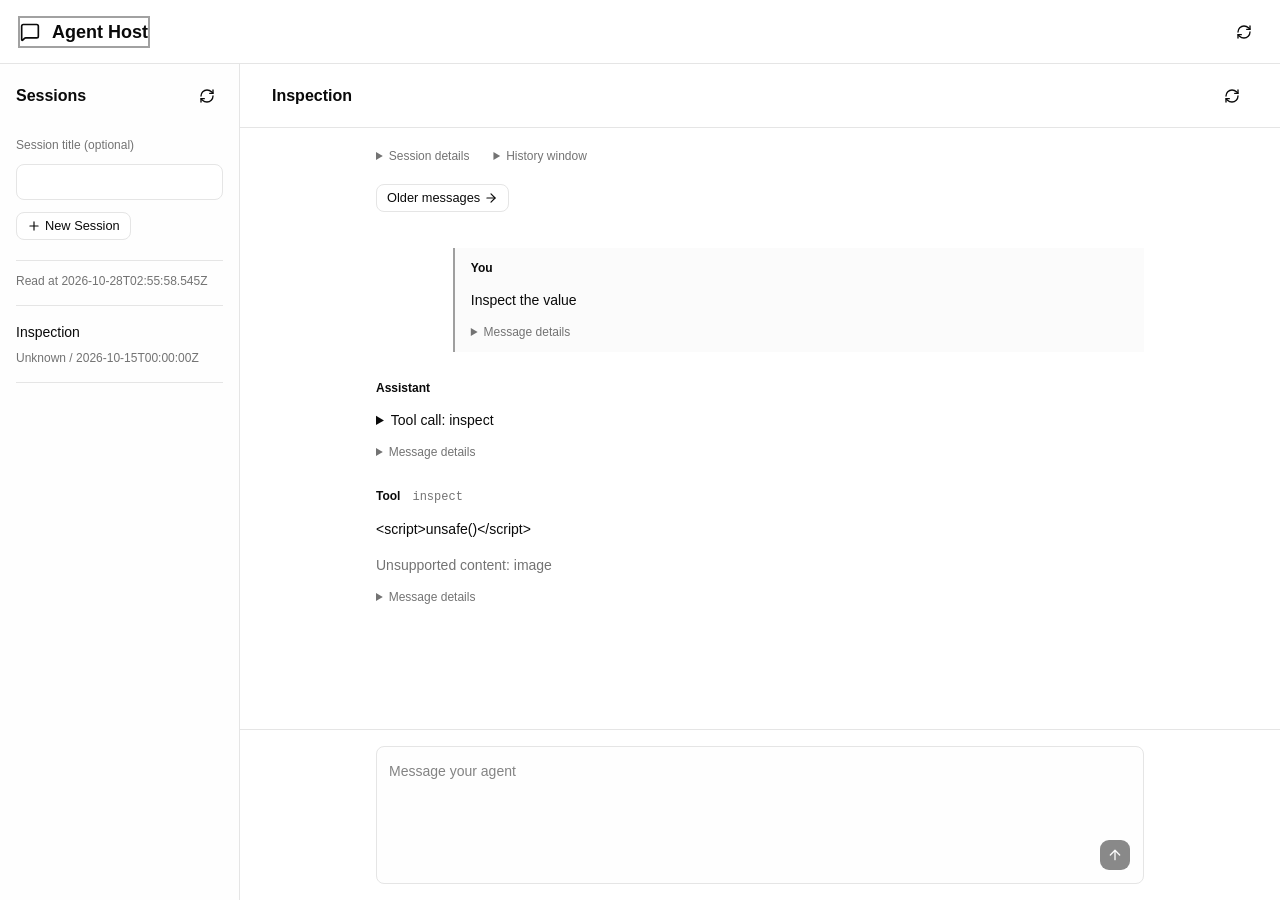
Test: Agent Host Session browsing › shows stop acceptance without cancelling the stream or enabling another Run
Type "New input" into the text box named "New input". click: (760, 795)
box: [389,759,1131,831]
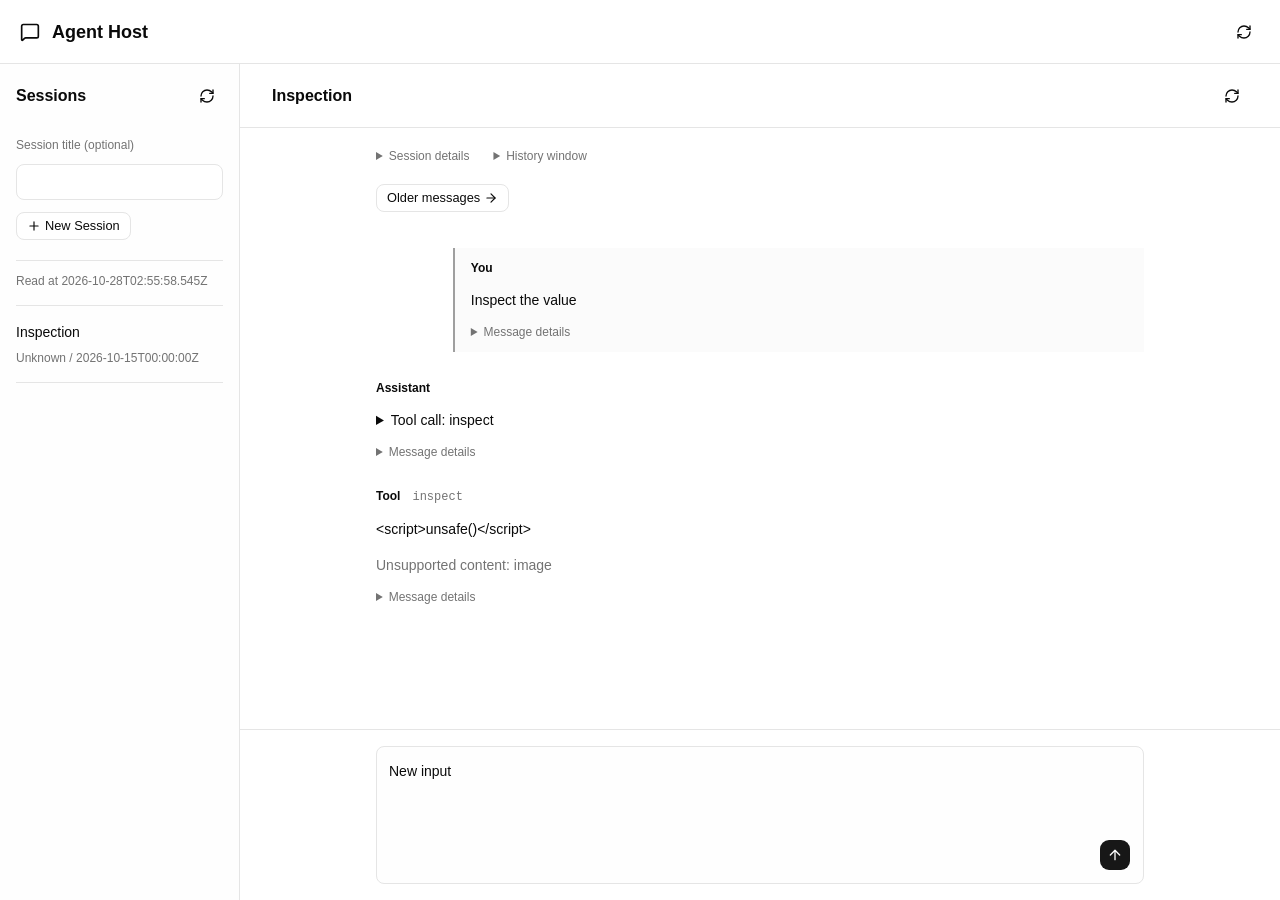
Click the button named "Send input". click: (1115, 855)
box: [1099,839,1131,871]
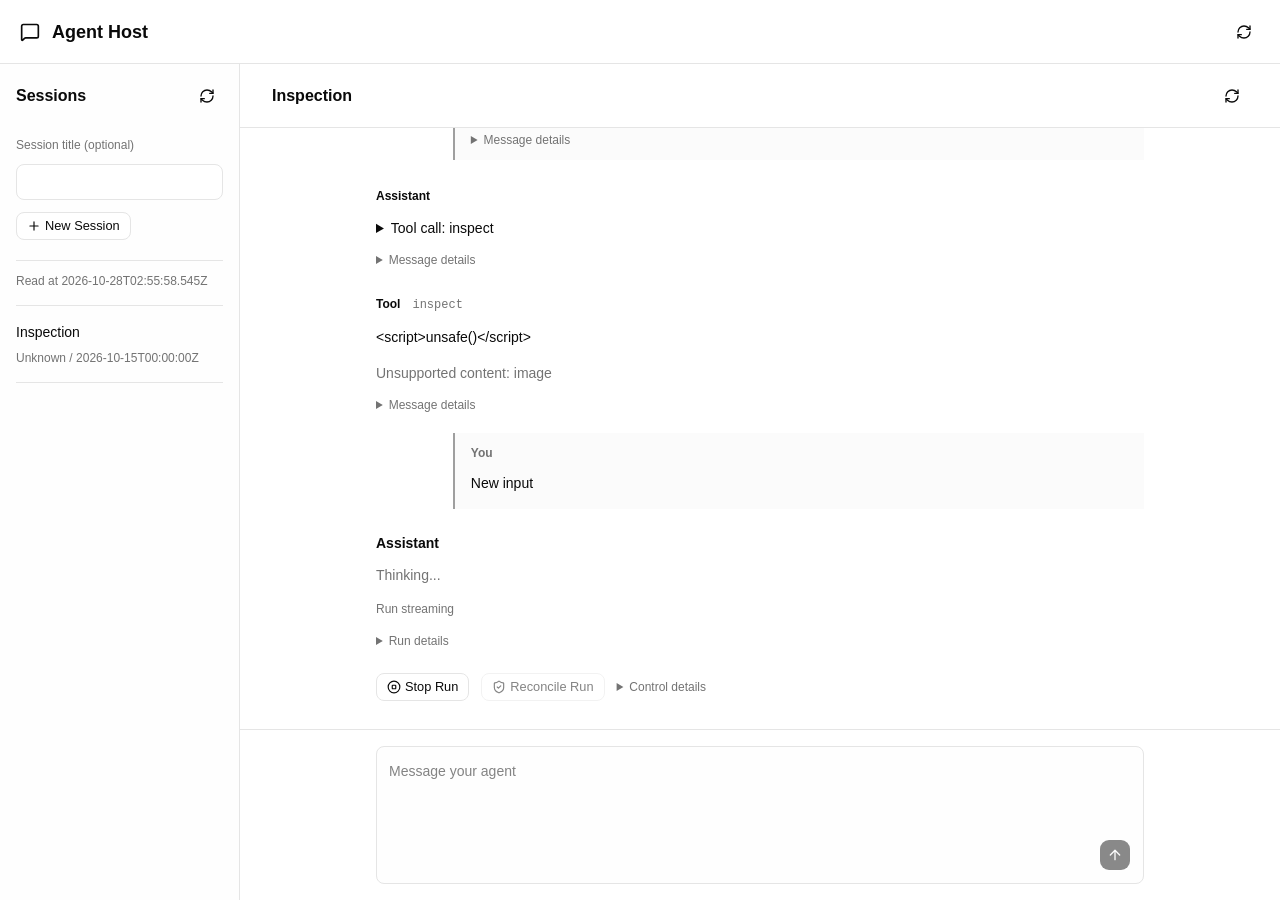
Click the button "Stop Run". click: (423, 687)
box: [376,673,469,701]
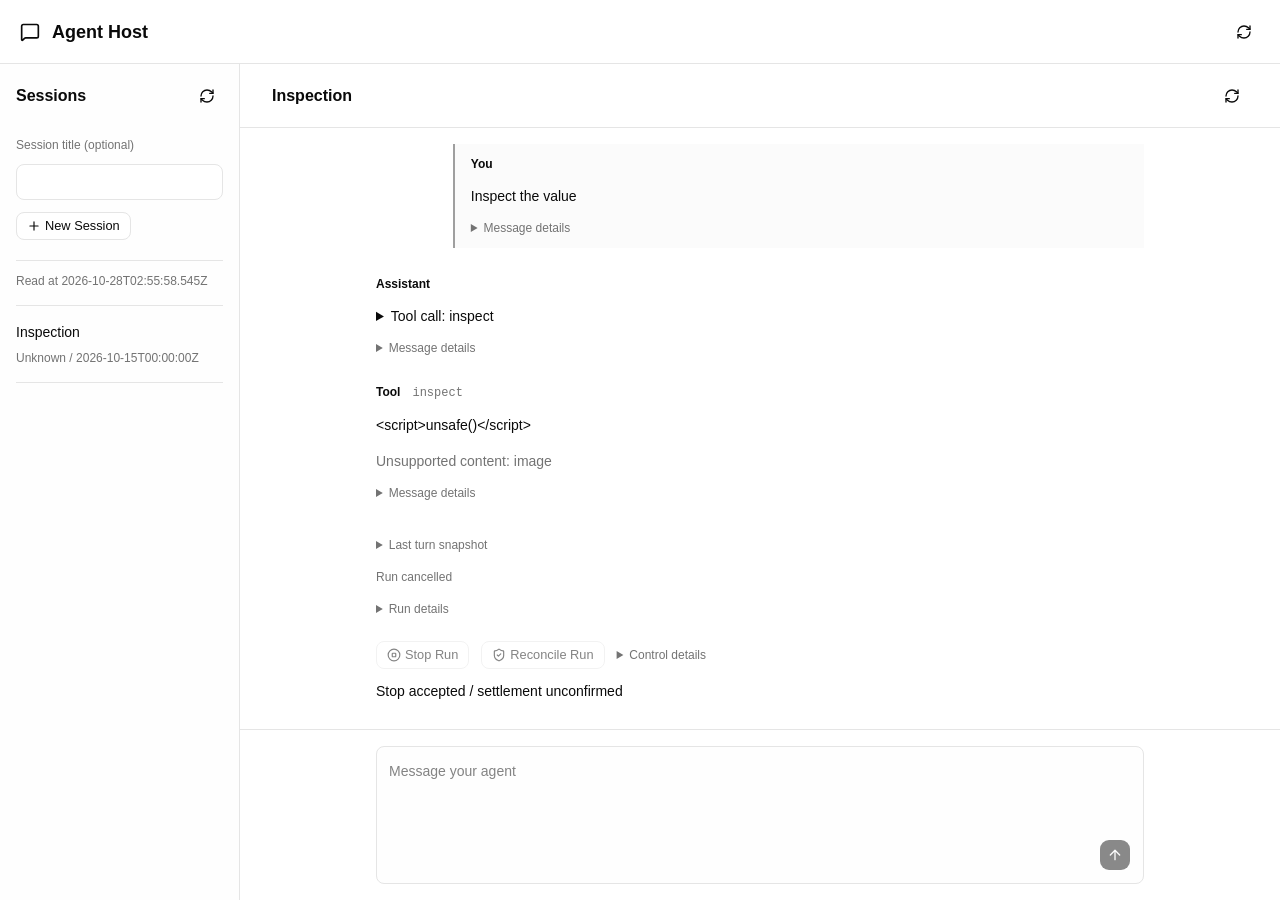
Result: the button "Reconcile Run" is disabled at [481,641,605,669]
Result: the text "Stop accepted / settlement unconfirmed" is shown at [376,683,623,699]
Result: the text "Run cancelled" is shown at [376,570,452,584]
